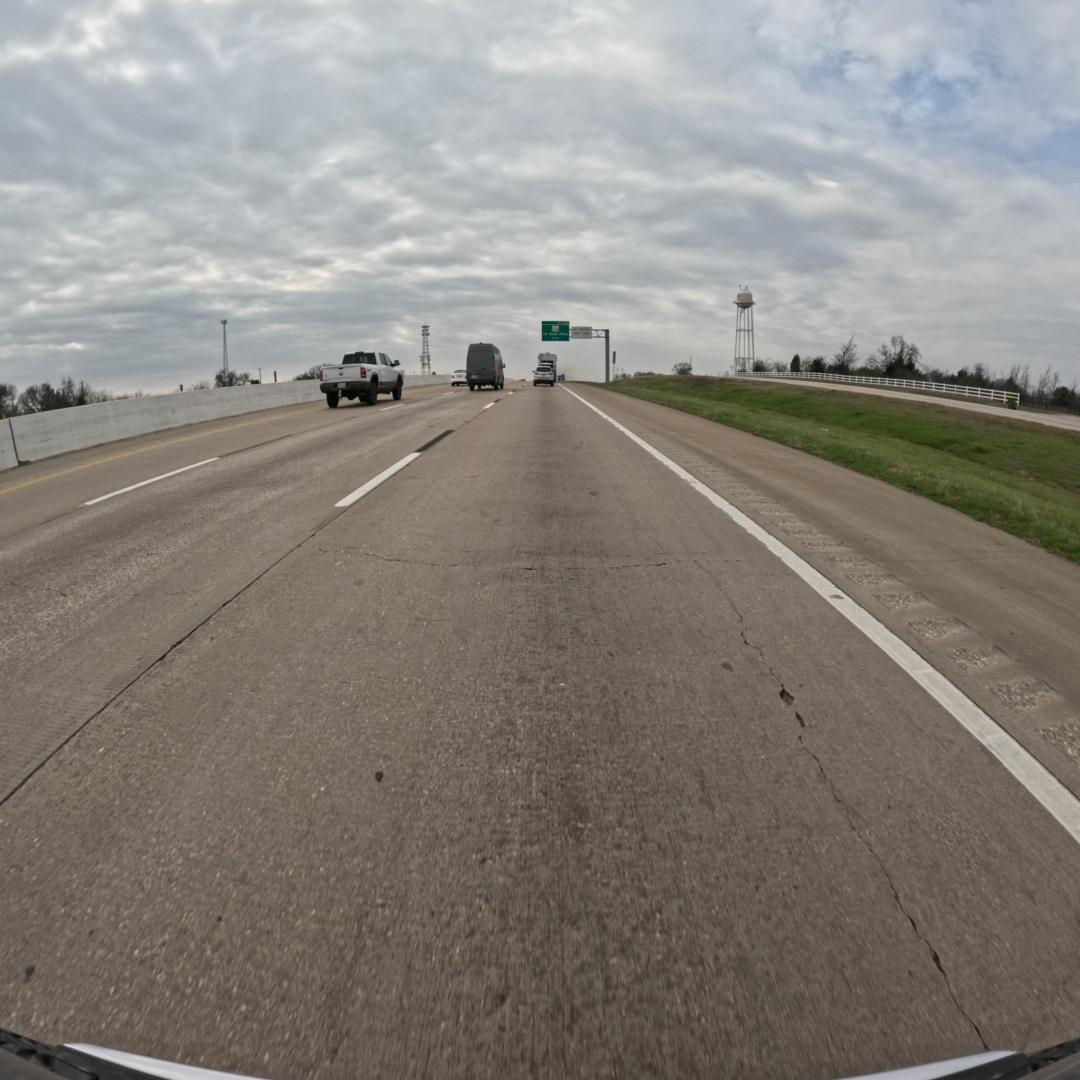lane0: (0, 388, 1080, 1077)
lane1: (0, 390, 503, 803)
